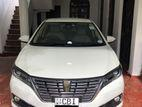car: (10, 16, 127, 107)
